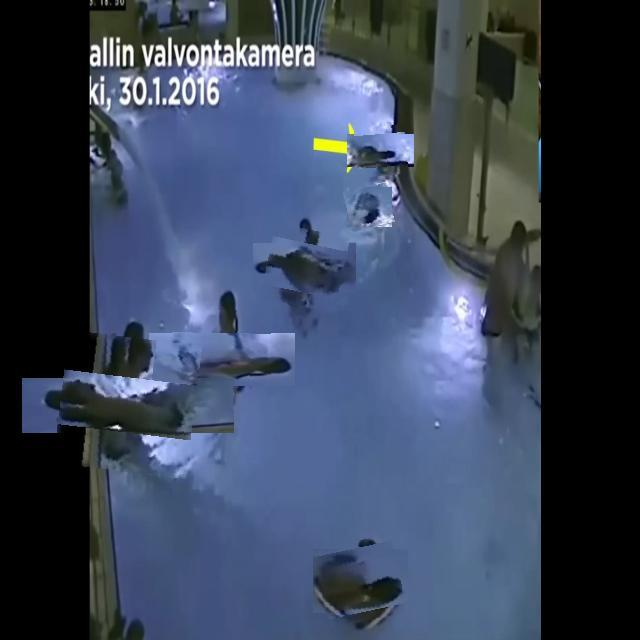Out of Water: (345, 183, 393, 230)
drowning: (57, 334, 199, 476), (172, 310, 272, 410), (316, 538, 404, 625), (264, 226, 346, 310), (354, 125, 407, 177)
